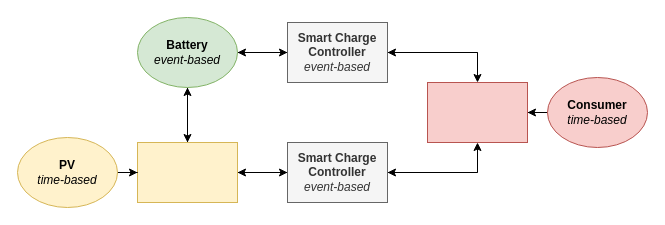
Some shapes in this 665 by 225 pixel diagram are drawn without their labels. Each missing label, with the centre of its shape:
"Consumption Controller event-based" goes at pixel 477 112.
"Solar Controller event-based" goes at pixel 187 172.
